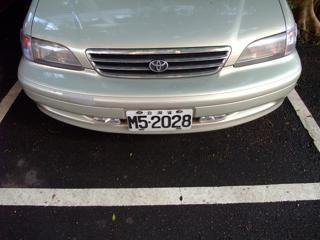plate: (124, 108, 193, 134)
